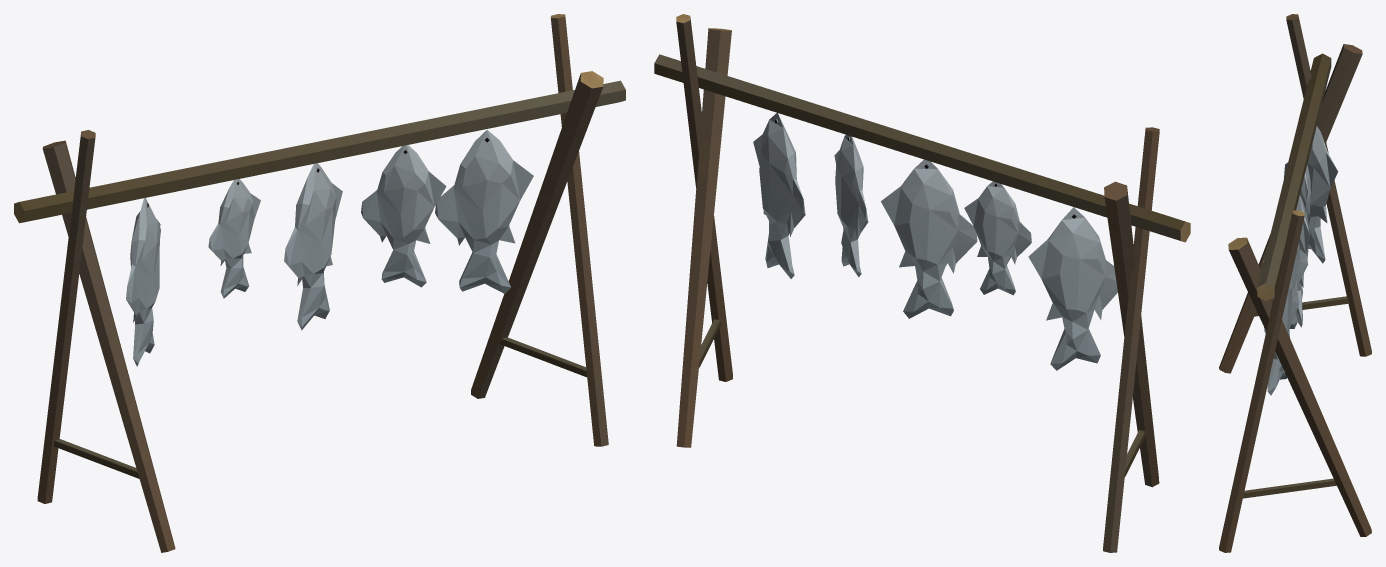
Rendered from Fish_Rack.fbx.
3 renders of one model, left to right at view 1: azimuth 30°, elevation 25°; view 2: azimuth 150°, elevation 25°; view 3: azimuth 270°, elevation 25°, orthographic. The views are drawn at different scales.
Parts seen in each view (by area): view 1: polySurface9751; view 2: polySurface9751; view 3: polySurface9751.
Part boxes in pixels (x1,y1,x2,y2): polySurface9751: [14, 14, 625, 552]; polySurface9751: [654, 14, 1190, 552]; polySurface9751: [1219, 14, 1371, 552].
Bounding box in the file's own units: 331 × 223 × 90.83.
